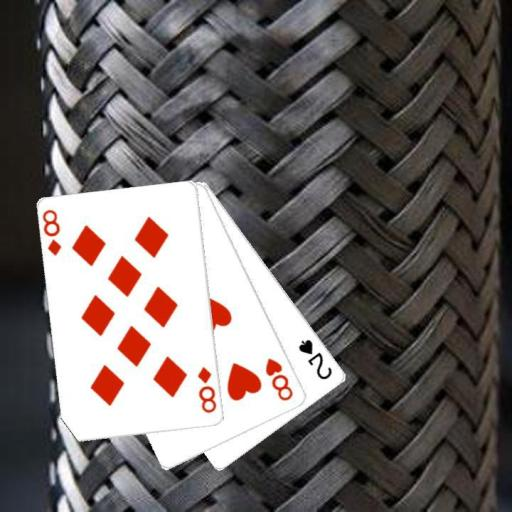2S: (295, 337, 334, 382)
8D: (195, 364, 218, 415), (41, 207, 64, 258)
8H: (263, 354, 295, 403)
